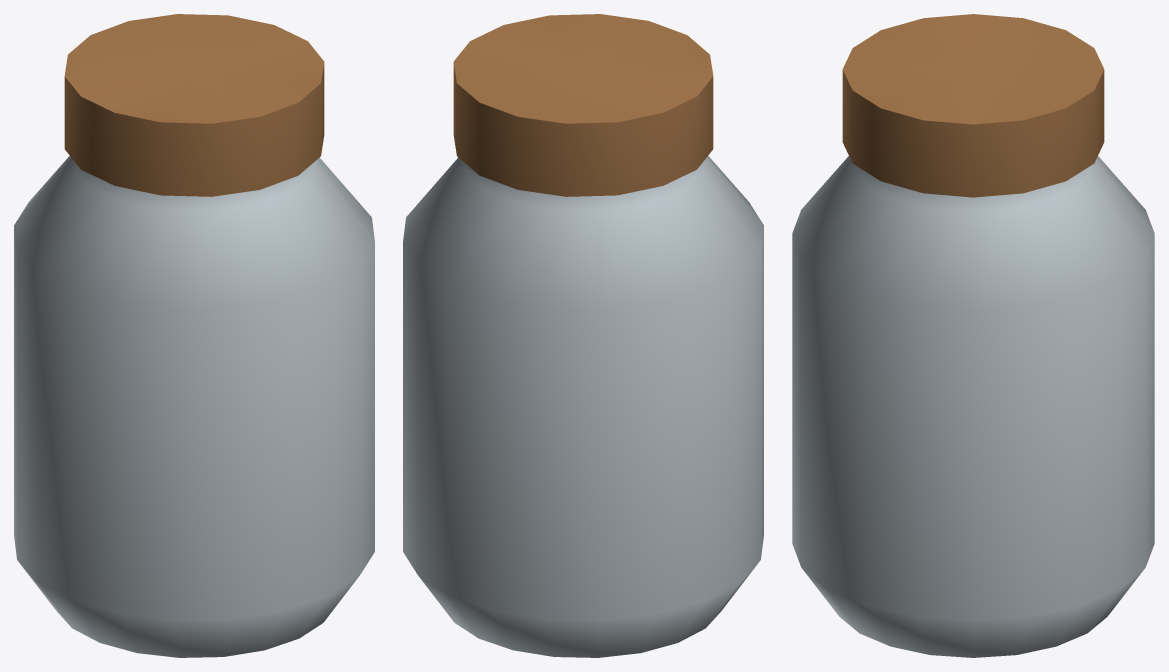
File: furn_star_jar.glb
3 renders of one model, left to right at view 1: azimuth 30°, elevation 25°; view 2: azimuth 150°, elevation 25°; view 3: azimuth 270°, elevation 25°, orthographic.
Visible parts, largest first — view 1: furn_star_jar_clear, furn_star_jar_main; view 2: furn_star_jar_clear, furn_star_jar_main; view 3: furn_star_jar_clear, furn_star_jar_main.
Boxes of the visible parts, x1=… form: furn_star_jar_clear: x1=14, y1=156, x2=374, y2=657; furn_star_jar_main: x1=64, y1=14, x2=324, y2=196; furn_star_jar_clear: x1=403, y1=156, x2=763, y2=657; furn_star_jar_main: x1=453, y1=14, x2=713, y2=196; furn_star_jar_clear: x1=792, y1=156, x2=1154, y2=657; furn_star_jar_main: x1=842, y1=14, x2=1104, y2=197.
Size of the model in its own units: 0.18 by 0.29 by 0.18.
